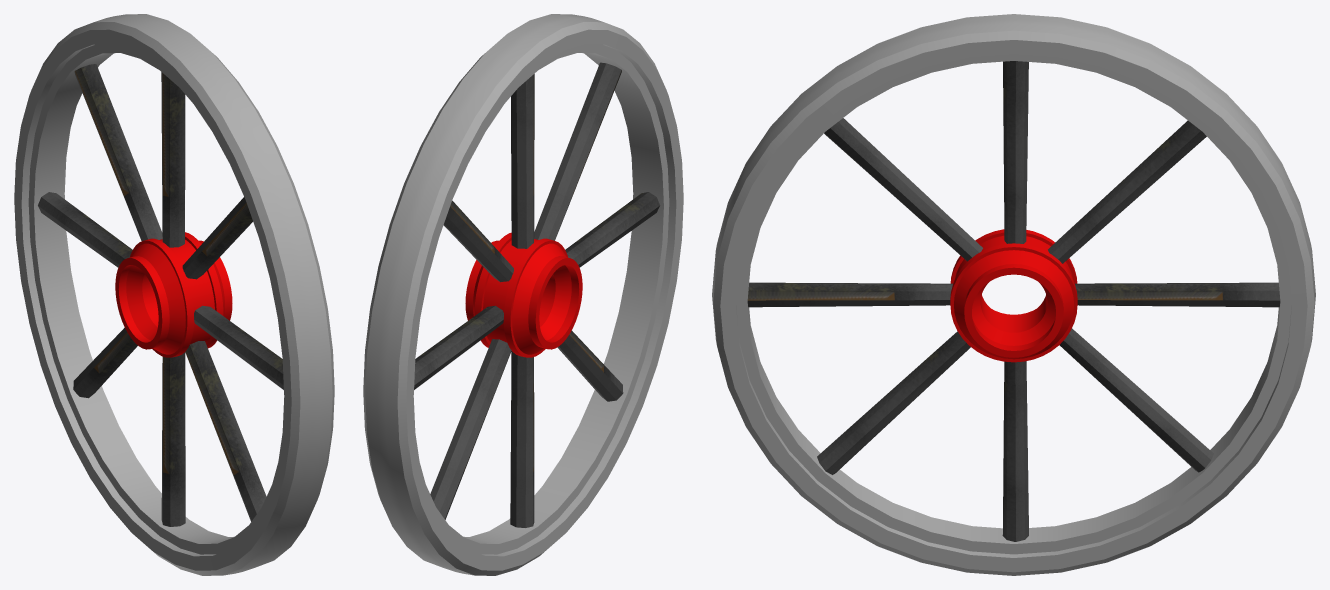
File: wheels.fbx
The picture shows the model from 3 angles, left to right: view 1: azimuth 30°, elevation 25°; view 2: azimuth 150°, elevation 25°; view 3: azimuth 270°, elevation 25°; orthographic projection. The views are drawn at different scales.
Visible parts, largest first — view 1: wheel; view 2: wheel; view 3: wheel.
Part boxes in pixels (x1,y1,x2,y2): wheel: (14, 14, 334, 575); wheel: (363, 14, 683, 575); wheel: (712, 14, 1315, 575).
Bounding box in the file's own units: 57.17 × 401 × 401.
